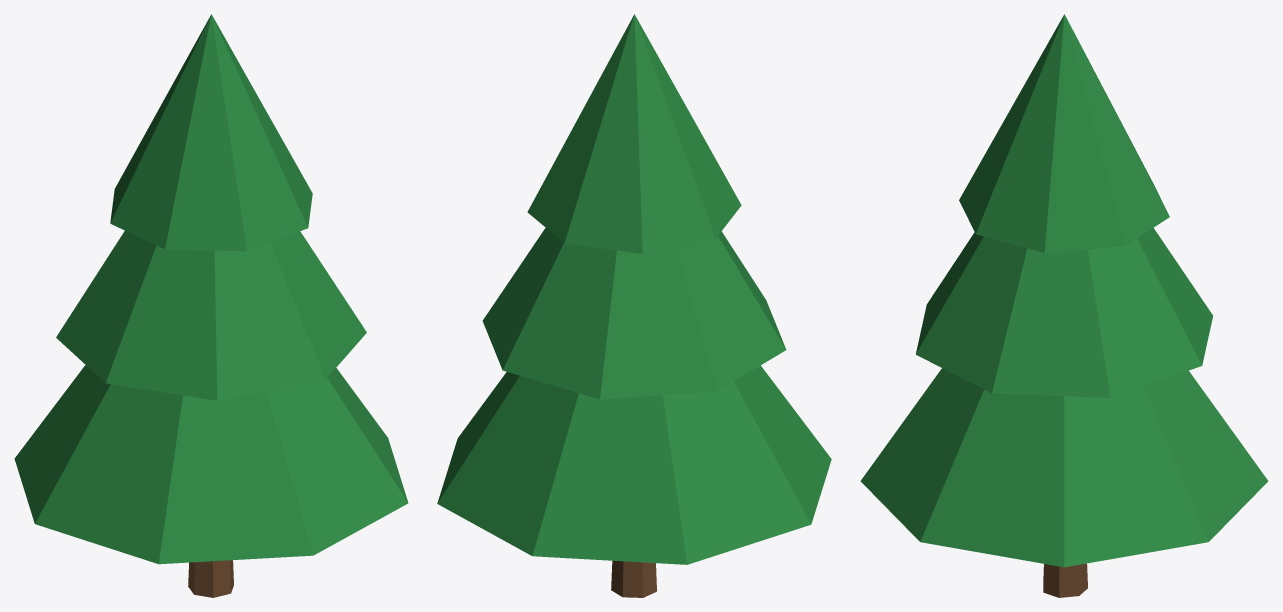
Rendered from tree_pine.glb.
3 renders of one model, left to right at view 1: azimuth 30°, elevation 25°; view 2: azimuth 150°, elevation 25°; view 3: azimuth 270°, elevation 25°, orthographic.
Visible parts, largest first — view 1: Canopy.001, Trunk.001; view 2: Canopy.001, Trunk.001; view 3: Canopy.001, Trunk.001.
Part boxes in pixels (box(x1,y1,x2,y2)): Canopy.001: box(14, 14, 408, 564); Trunk.001: box(188, 560, 233, 597); Canopy.001: box(437, 14, 831, 564); Trunk.001: box(611, 560, 656, 597); Canopy.001: box(860, 14, 1268, 567); Trunk.001: box(1043, 563, 1087, 597).
Size of the model in its own units: 3.8 by 5.9 by 3.8.
